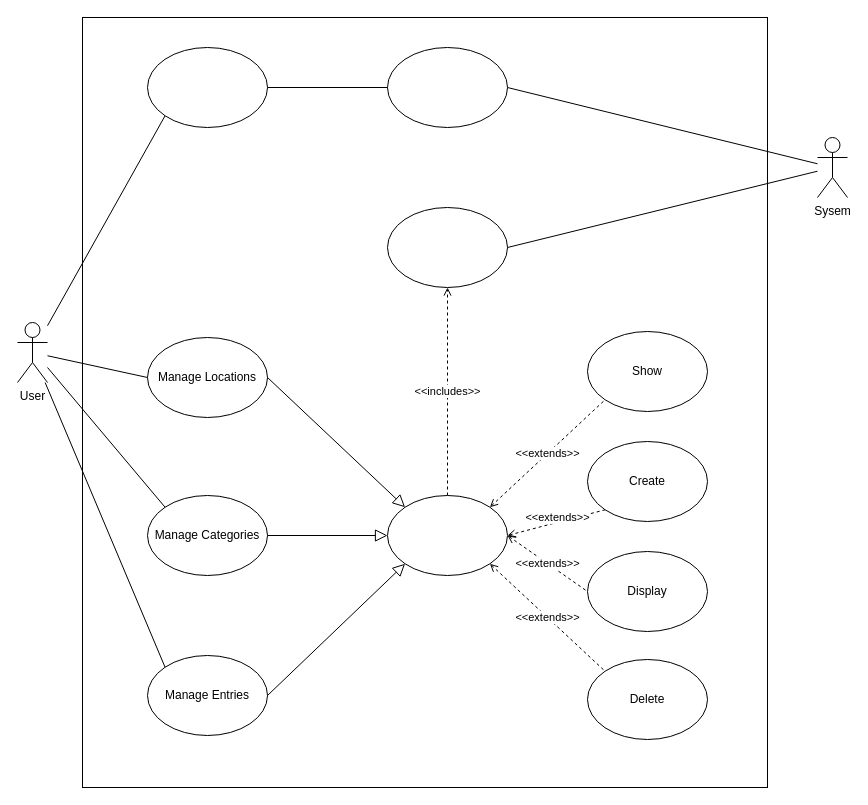
This 868x805 diagram has some shape labels left out. Each missing label, with the centre of its shape:
"Autorisation with JWT" goes at [447,247].
"Get JWT" goes at [447,87].
"Login" goes at [207,87].
"Manage Entity" goes at [447,535].
